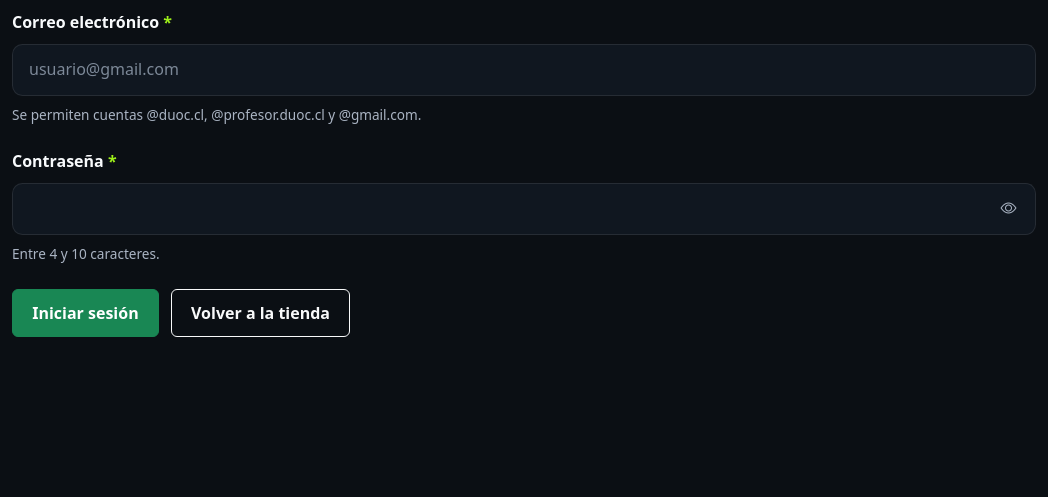
Test: LoginForm › impide enviar campos vacíos, explica los errores y enfoca el primero
Click the button "Iniciar sesión".
click(85, 313)  # box [12,289,159,337]
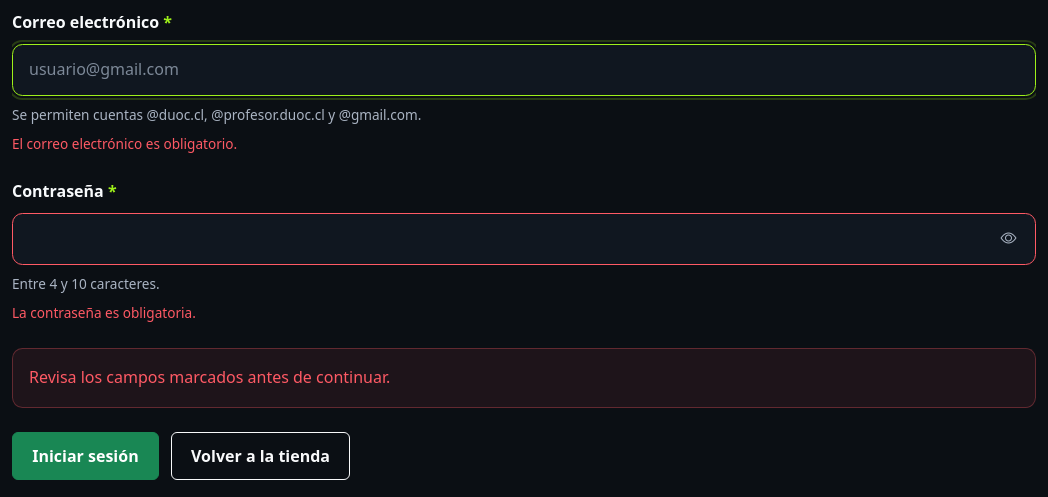
Expected: the text "La contraseña es obligatoria." is shown, [12,303,196,322]
Expected: the message shows "Revisa los campos marcados", [29,366,390,388]
